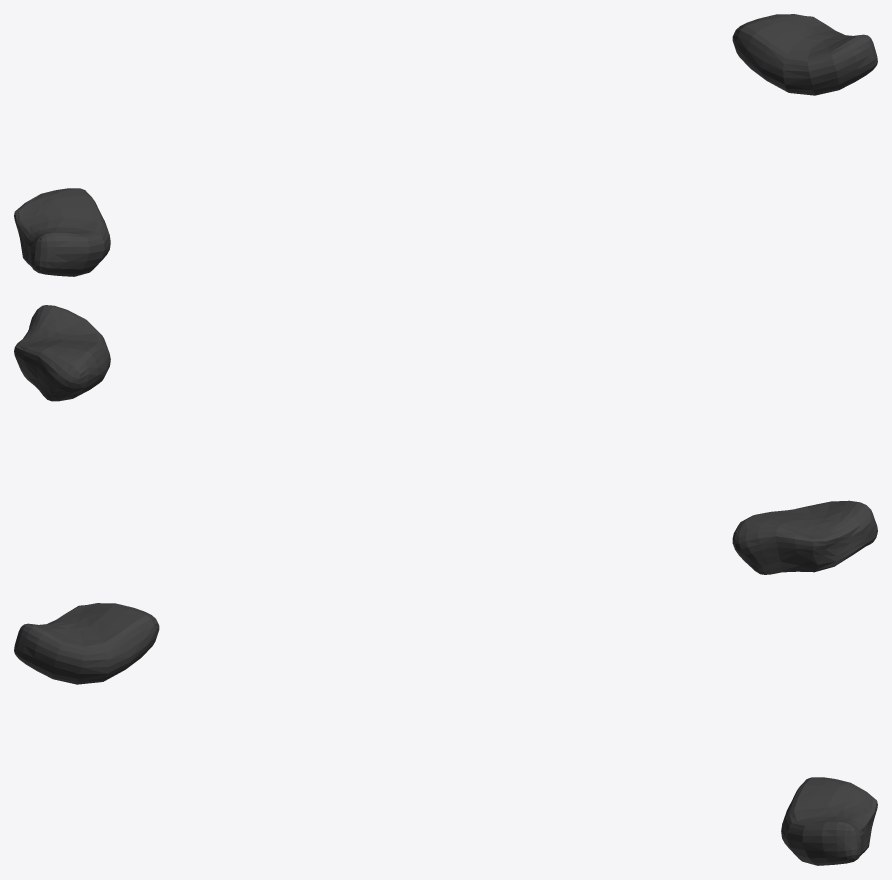
The model's file is b_tarsal_2_3_L_LO.glb.
3 renders of one model, top to bottom at view 1: azimuth 30°, elevation 25°; view 2: azimuth 150°, elevation 25°; view 3: azimuth 330°, elevation 25°, orthographic.
Parts seen in each view (by area): view 1: b_tarsal_2_3_L_LO; view 2: b_tarsal_2_3_L_LO; view 3: b_tarsal_2_3_L_LO.
Part boxes in pixels (x1,y1,x2,y2): b_tarsal_2_3_L_LO: [14, 14, 877, 276]; b_tarsal_2_3_L_LO: [14, 305, 877, 574]; b_tarsal_2_3_L_LO: [14, 603, 877, 865].
Size of the model in its own units: 0.00301 by 0.000179 by 0.000384.
1 material, 1 textured.
